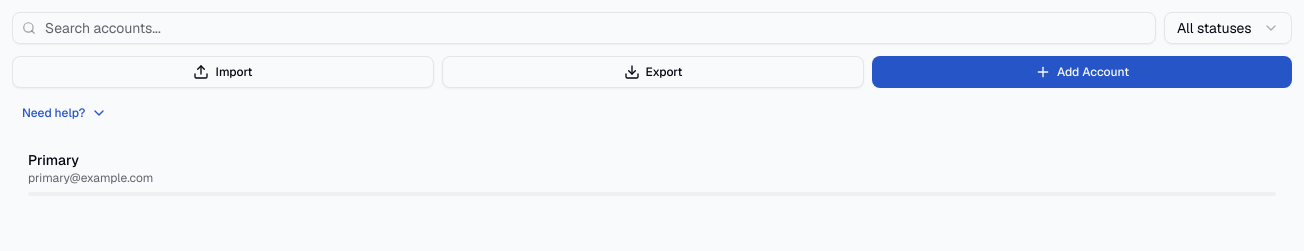
AccountList › shows empty state when no items match filter
In the field with placeholder "Search accounts...": (584, 28) [12,12,1156,44], type "not-found"
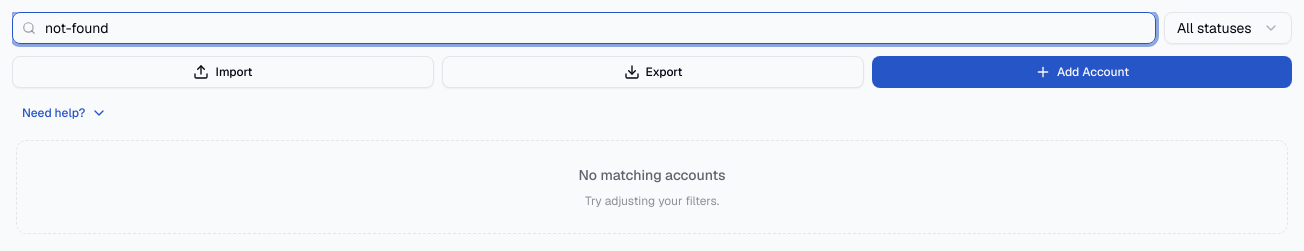
Result: the text "No matching accounts" is shown at [578,165,725,185]
